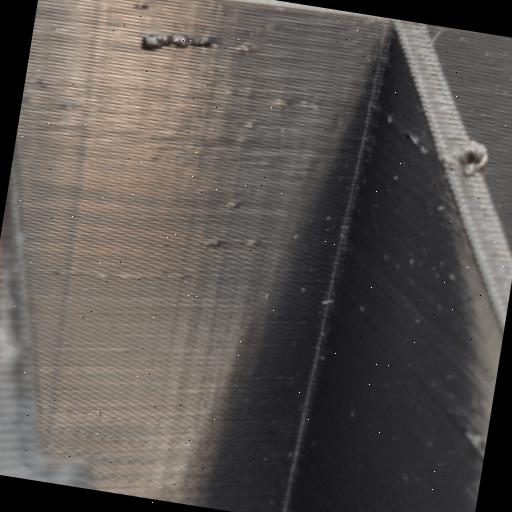blobs: (122, 0, 232, 75), (196, 192, 282, 278), (434, 130, 500, 196)
